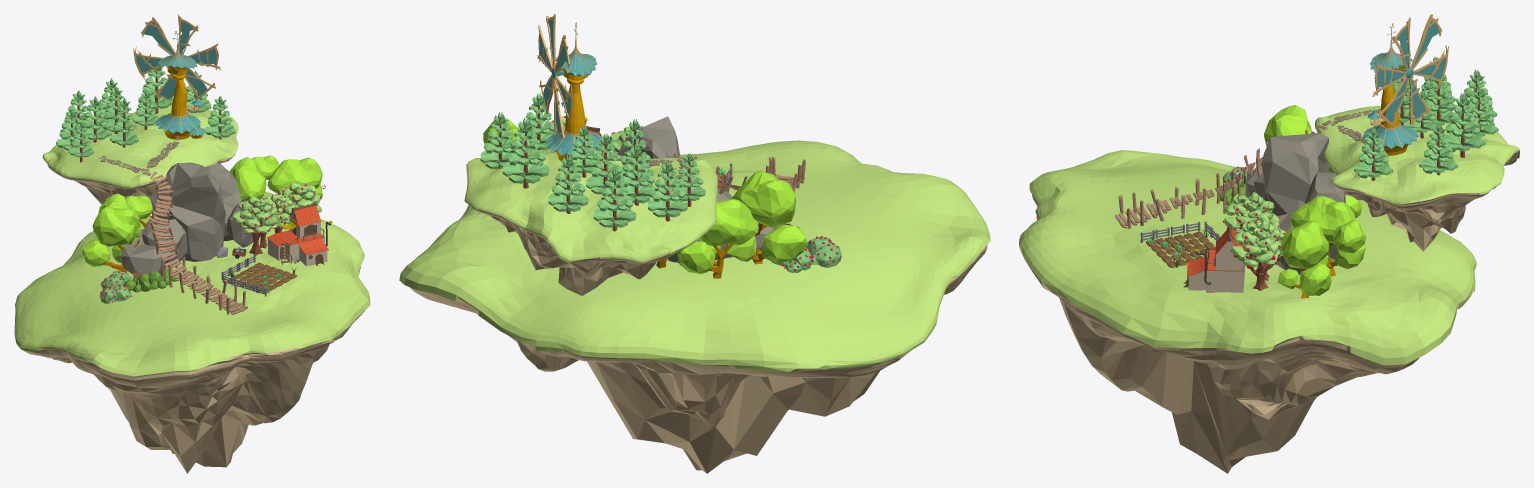
File: metaland3.glb
3 renders of one model, left to right at view 1: azimuth 30°, elevation 25°; view 2: azimuth 150°, elevation 25°; view 3: azimuth 270°, elevation 25°, orthographic. The views are drawn at different scales.
Visible parts, largest first — view 1: road_A-dao1:___________立方体SG1, road_A-dao1:___________细分曲面_1SG1, rock, road_B-dao1:___________立方体SG1, tree04-dao1:_________Tree_6_LowSG3, bridge, tree04-dao1:_________Tree_6_HighSG3, dao360, dao279, dao377, road_B-dao1:___________细分曲面_1SG1, dao284 (+11 smaller); view 2: road_A-dao1:___________立方体SG1, road_A-dao1:___________细分曲面_1SG1, road_B-dao1:___________立方体SG1, tree04-dao1:_________Tree_6_LowSG3, road_B-dao1:___________细分曲面_1SG1, tree04-dao1:_________Tree_6_HighSG3, dao360, rock, dao397, dao337, tree01-dao1:____Bush1_WFSG3, dao374 (+5 smaller); view 3: road_A-dao1:___________立方体SG1, road_A-dao1:___________细分曲面_1SG1, road_B-dao1:___________立方体SG1, rock, tree04-dao1:_________Tree_6_LowSG3, road_B-dao1:___________细分曲面_1SG1, bridge, dao4-dao1:____________Tree_1_Low_WFSG1, dao279, dao284, dao536, dao377 (+8 smaller).
Boxes of the visible parts, x1,y1,x2,y2 form: road_A-dao1:___________立方体SG1: (14,191,370,376); road_A-dao1:___________细分曲面_1SG1: (22,267,364,473); rock: (120,162,262,274); road_B-dao1:___________立方体SG1: (42,105,238,187); tree04-dao1:_________Tree_6_LowSG3: (56,66,235,150); bridge: (150,171,247,314); tree04-dao1:_________Tree_6_HighSG3: (68,87,138,157); dao360: (92,206,141,246); dao279: (267,157,322,194); dao377: (232,196,278,233); road_B-dao1:___________细分曲面_1SG1: (53,153,235,213); dao284: (229,157,266,201); road_A-dao1:___________立方体SG1: (399,140,990,371); road_A-dao1:___________细分曲面_1SG1: (409,245,987,473); road_B-dao1:___________立方体SG1: (464,148,717,262); tree04-dao1:_________Tree_6_LowSG3: (480,93,687,227); road_B-dao1:___________细分曲面_1SG1: (468,185,717,295); tree04-dao1:_________Tree_6_HighSG3: (586,118,705,200); dao360: (733,170,796,227); rock: (597,116,776,262); dao397: (699,199,758,246); dao337: (761,224,807,262); tree01-dao1:____Bush1_WFSG3: (771,237,841,272); dao374: (677,241,715,273); road_A-dao1:___________立方体SG1: (1019,150,1476,365); road_A-dao1:___________细分曲面_1SG1: (1019,195,1474,473); road_B-dao1:___________立方体SG1: (1315,106,1519,204); rock: (1245,133,1345,274); tree04-dao1:_________Tree_6_LowSG3: (1354,56,1498,178); road_B-dao1:___________细分曲面_1SG1: (1315,127,1519,251); bridge: (1115,125,1327,228); dao4-dao1:____________Tree_1_Low_WFSG1: (1231,216,1285,267); dao279: (1281,221,1329,268); dao284: (1290,195,1354,243); dao536: (1146,231,1214,267); dao377: (1224,192,1279,233).
Bounding box in the file's own units: 4231 × 4649 × 4440.
